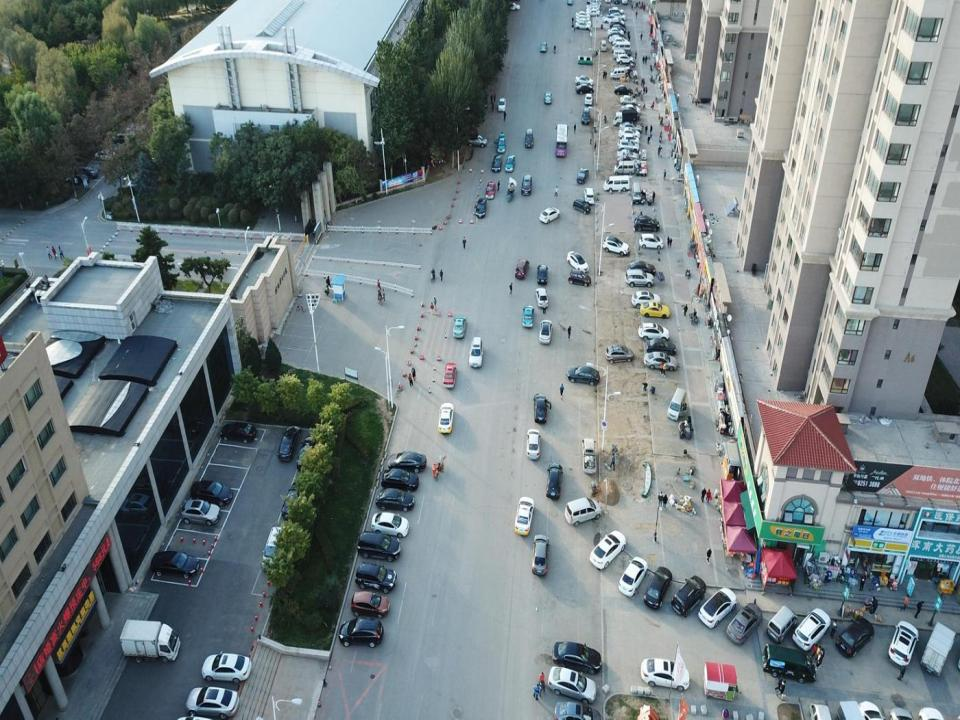bus: (555, 124, 568, 158)
car: (548, 668, 596, 705), (552, 641, 601, 677), (202, 651, 252, 685), (639, 658, 689, 691), (185, 688, 241, 717), (792, 608, 830, 650), (671, 574, 706, 618), (355, 529, 400, 563), (698, 588, 736, 628), (836, 618, 874, 658), (726, 603, 762, 645), (888, 621, 920, 667), (590, 531, 625, 571), (338, 618, 383, 647), (355, 561, 397, 591), (151, 550, 199, 576), (618, 557, 648, 597), (350, 591, 390, 619), (190, 481, 232, 507), (281, 480, 307, 522), (645, 568, 672, 608), (371, 512, 409, 540), (182, 498, 221, 524), (375, 488, 414, 512), (553, 701, 604, 719), (381, 467, 419, 490), (278, 425, 300, 463), (296, 434, 318, 472), (515, 495, 534, 535), (387, 451, 426, 470), (219, 423, 256, 443), (531, 536, 549, 576), (645, 352, 678, 373), (566, 367, 600, 386), (638, 322, 670, 342), (606, 342, 633, 364), (546, 463, 562, 500), (646, 339, 678, 357), (602, 236, 630, 256), (857, 699, 885, 719), (631, 290, 660, 309), (624, 269, 653, 287), (438, 403, 454, 435), (525, 428, 541, 460), (626, 260, 656, 277), (567, 251, 589, 274), (640, 302, 670, 318), (534, 391, 548, 425), (568, 268, 591, 288), (469, 336, 483, 368), (442, 362, 457, 390), (639, 233, 664, 249), (634, 216, 659, 232), (538, 207, 560, 224), (77, 164, 99, 180), (810, 703, 832, 719), (539, 319, 552, 344), (452, 315, 466, 338), (514, 258, 530, 278), (573, 198, 592, 214), (522, 305, 534, 329), (66, 173, 88, 186), (95, 149, 116, 162), (616, 148, 637, 161), (535, 289, 548, 309), (536, 264, 549, 284), (619, 127, 639, 140), (619, 122, 640, 134), (111, 132, 131, 144), (618, 140, 638, 152), (476, 197, 487, 218), (504, 154, 516, 173), (576, 166, 588, 185), (468, 135, 487, 147), (614, 84, 633, 96), (491, 152, 501, 172), (620, 104, 640, 114), (522, 173, 531, 195), (485, 181, 496, 199), (496, 132, 505, 154), (616, 54, 634, 65), (524, 129, 533, 149), (584, 187, 594, 205), (575, 84, 593, 93), (576, 75, 592, 85), (608, 34, 624, 44), (582, 108, 591, 124), (575, 22, 591, 31), (620, 96, 636, 105), (612, 38, 628, 47), (610, 24, 626, 33), (609, 13, 625, 22), (602, 14, 619, 22), (609, 6, 624, 15), (497, 98, 507, 111), (504, 2, 520, 10), (608, 28, 624, 36), (542, 92, 552, 104), (585, 9, 599, 17), (575, 15, 589, 23), (575, 19, 589, 27), (575, 78, 593, 84), (540, 40, 548, 53), (584, 93, 592, 106), (586, 6, 599, 14), (585, 3, 599, 10), (576, 11, 590, 18)
truck: (118, 618, 182, 664), (920, 622, 956, 674), (582, 438, 597, 473), (837, 699, 861, 719), (612, 112, 639, 126)
van: (763, 644, 816, 684), (766, 606, 798, 642), (263, 525, 286, 572), (564, 499, 601, 524), (666, 388, 686, 420), (603, 174, 629, 192), (614, 161, 634, 175), (610, 68, 627, 80), (632, 182, 641, 204), (612, 50, 628, 61), (612, 42, 630, 51), (599, 38, 607, 52)
